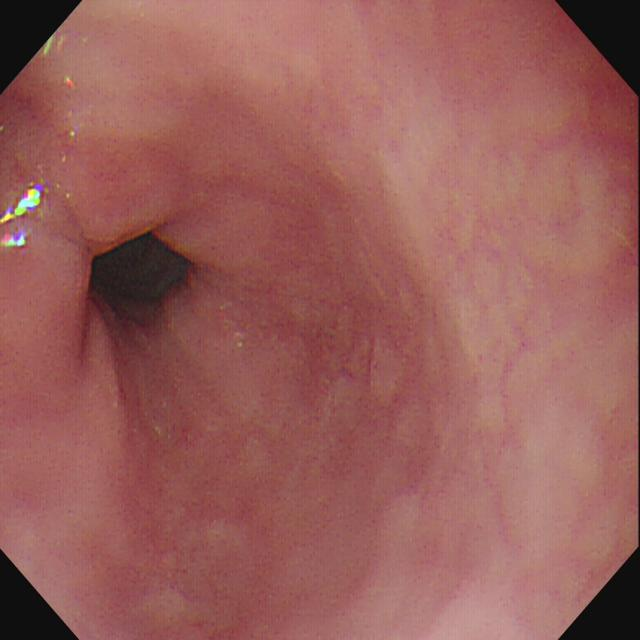A: (259, 321, 378, 397)
E: (91, 233, 194, 321)
U: (2, 187, 43, 225), (2, 231, 28, 250)
